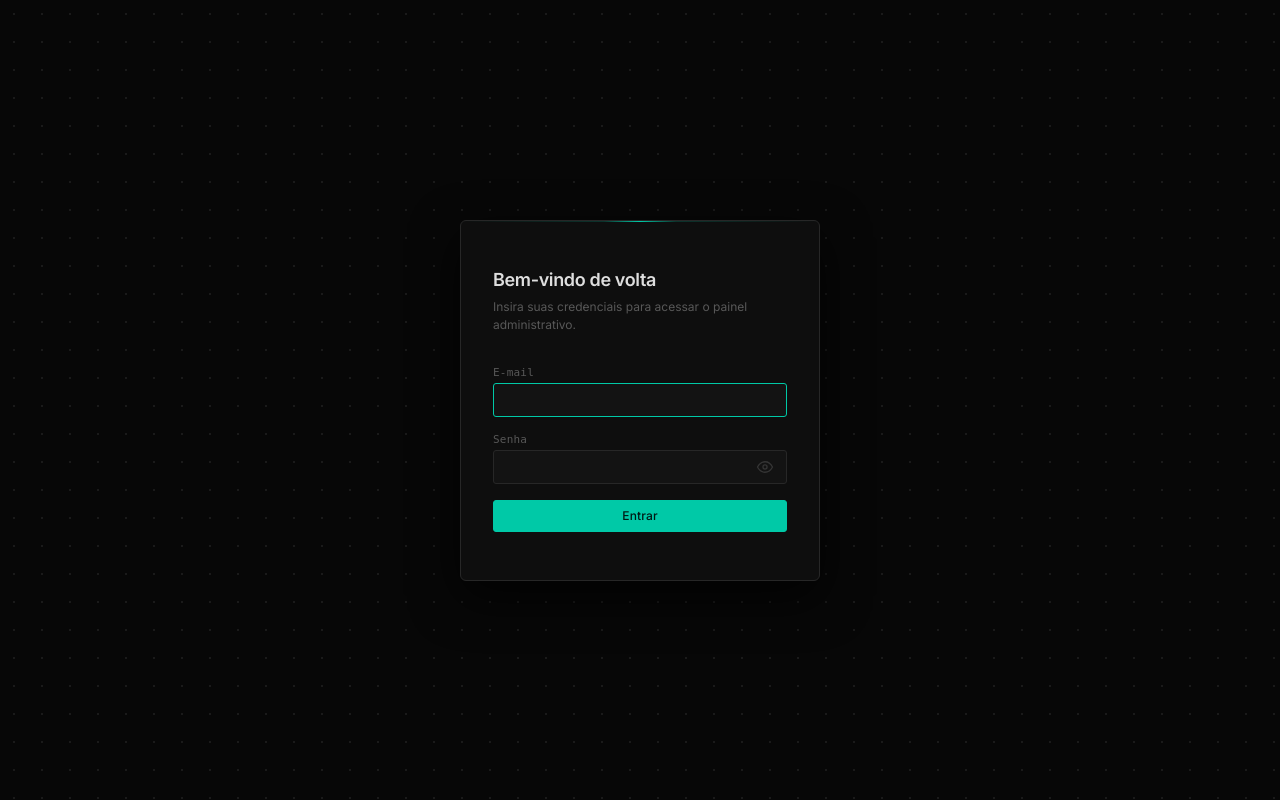
Test case: LoginPage › shows an error for an invalid email without touching the password field
Type "not-an-email" into the field named "E-mail" at (640, 400), box [494,384,786,416]
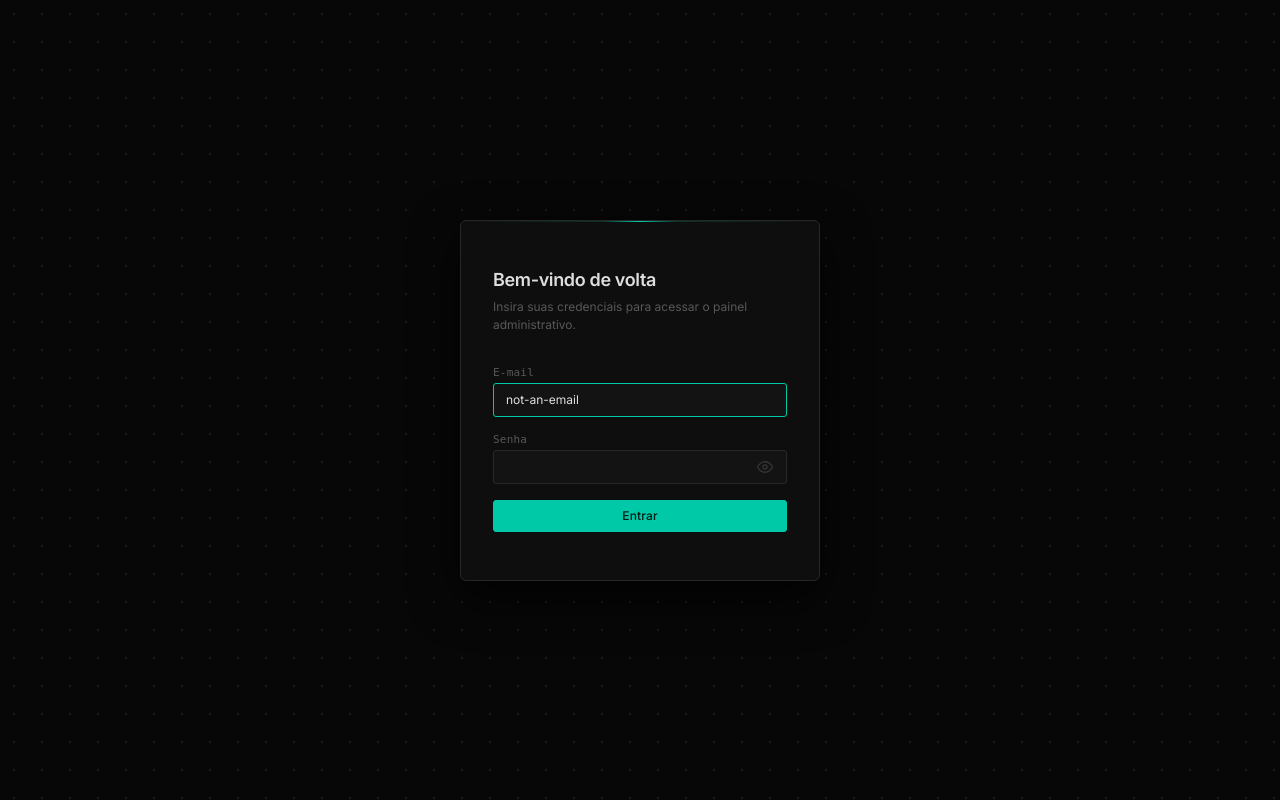
Type "senha-forte" into the password field named "Senha" at (625, 466), box [494,450,756,482]
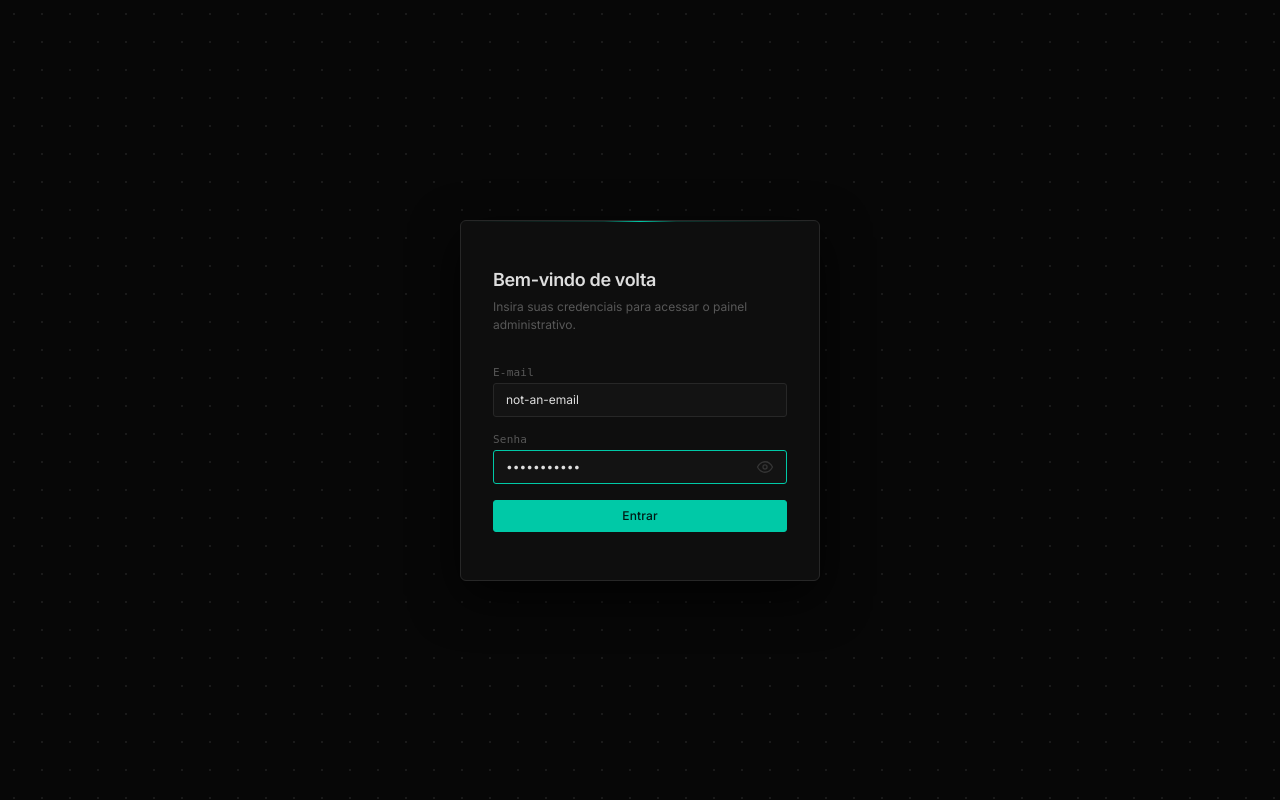
Click the button "Entrar" at (640, 516), box [493,500,787,532]
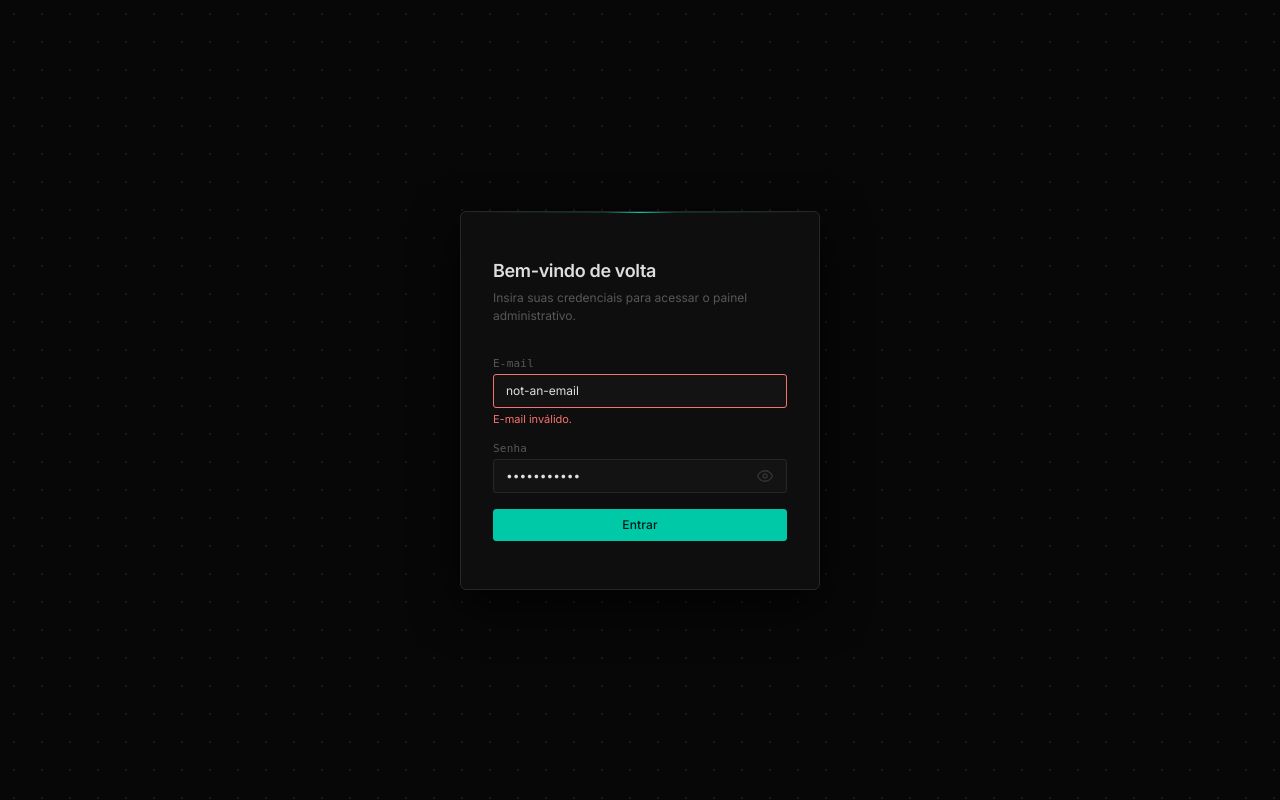
Expected: the text "E-mail inválido." is shown, [493,412,572,426]
